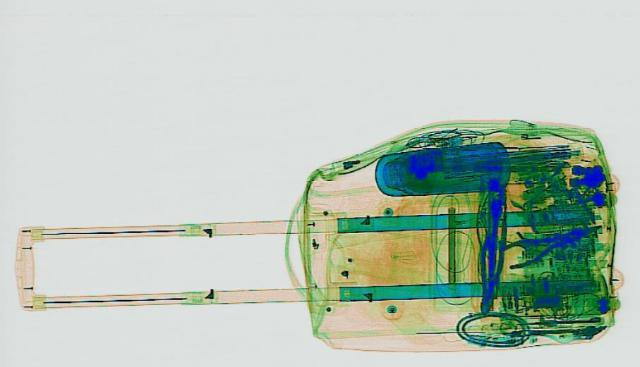Pliers: (489, 215, 615, 269)
